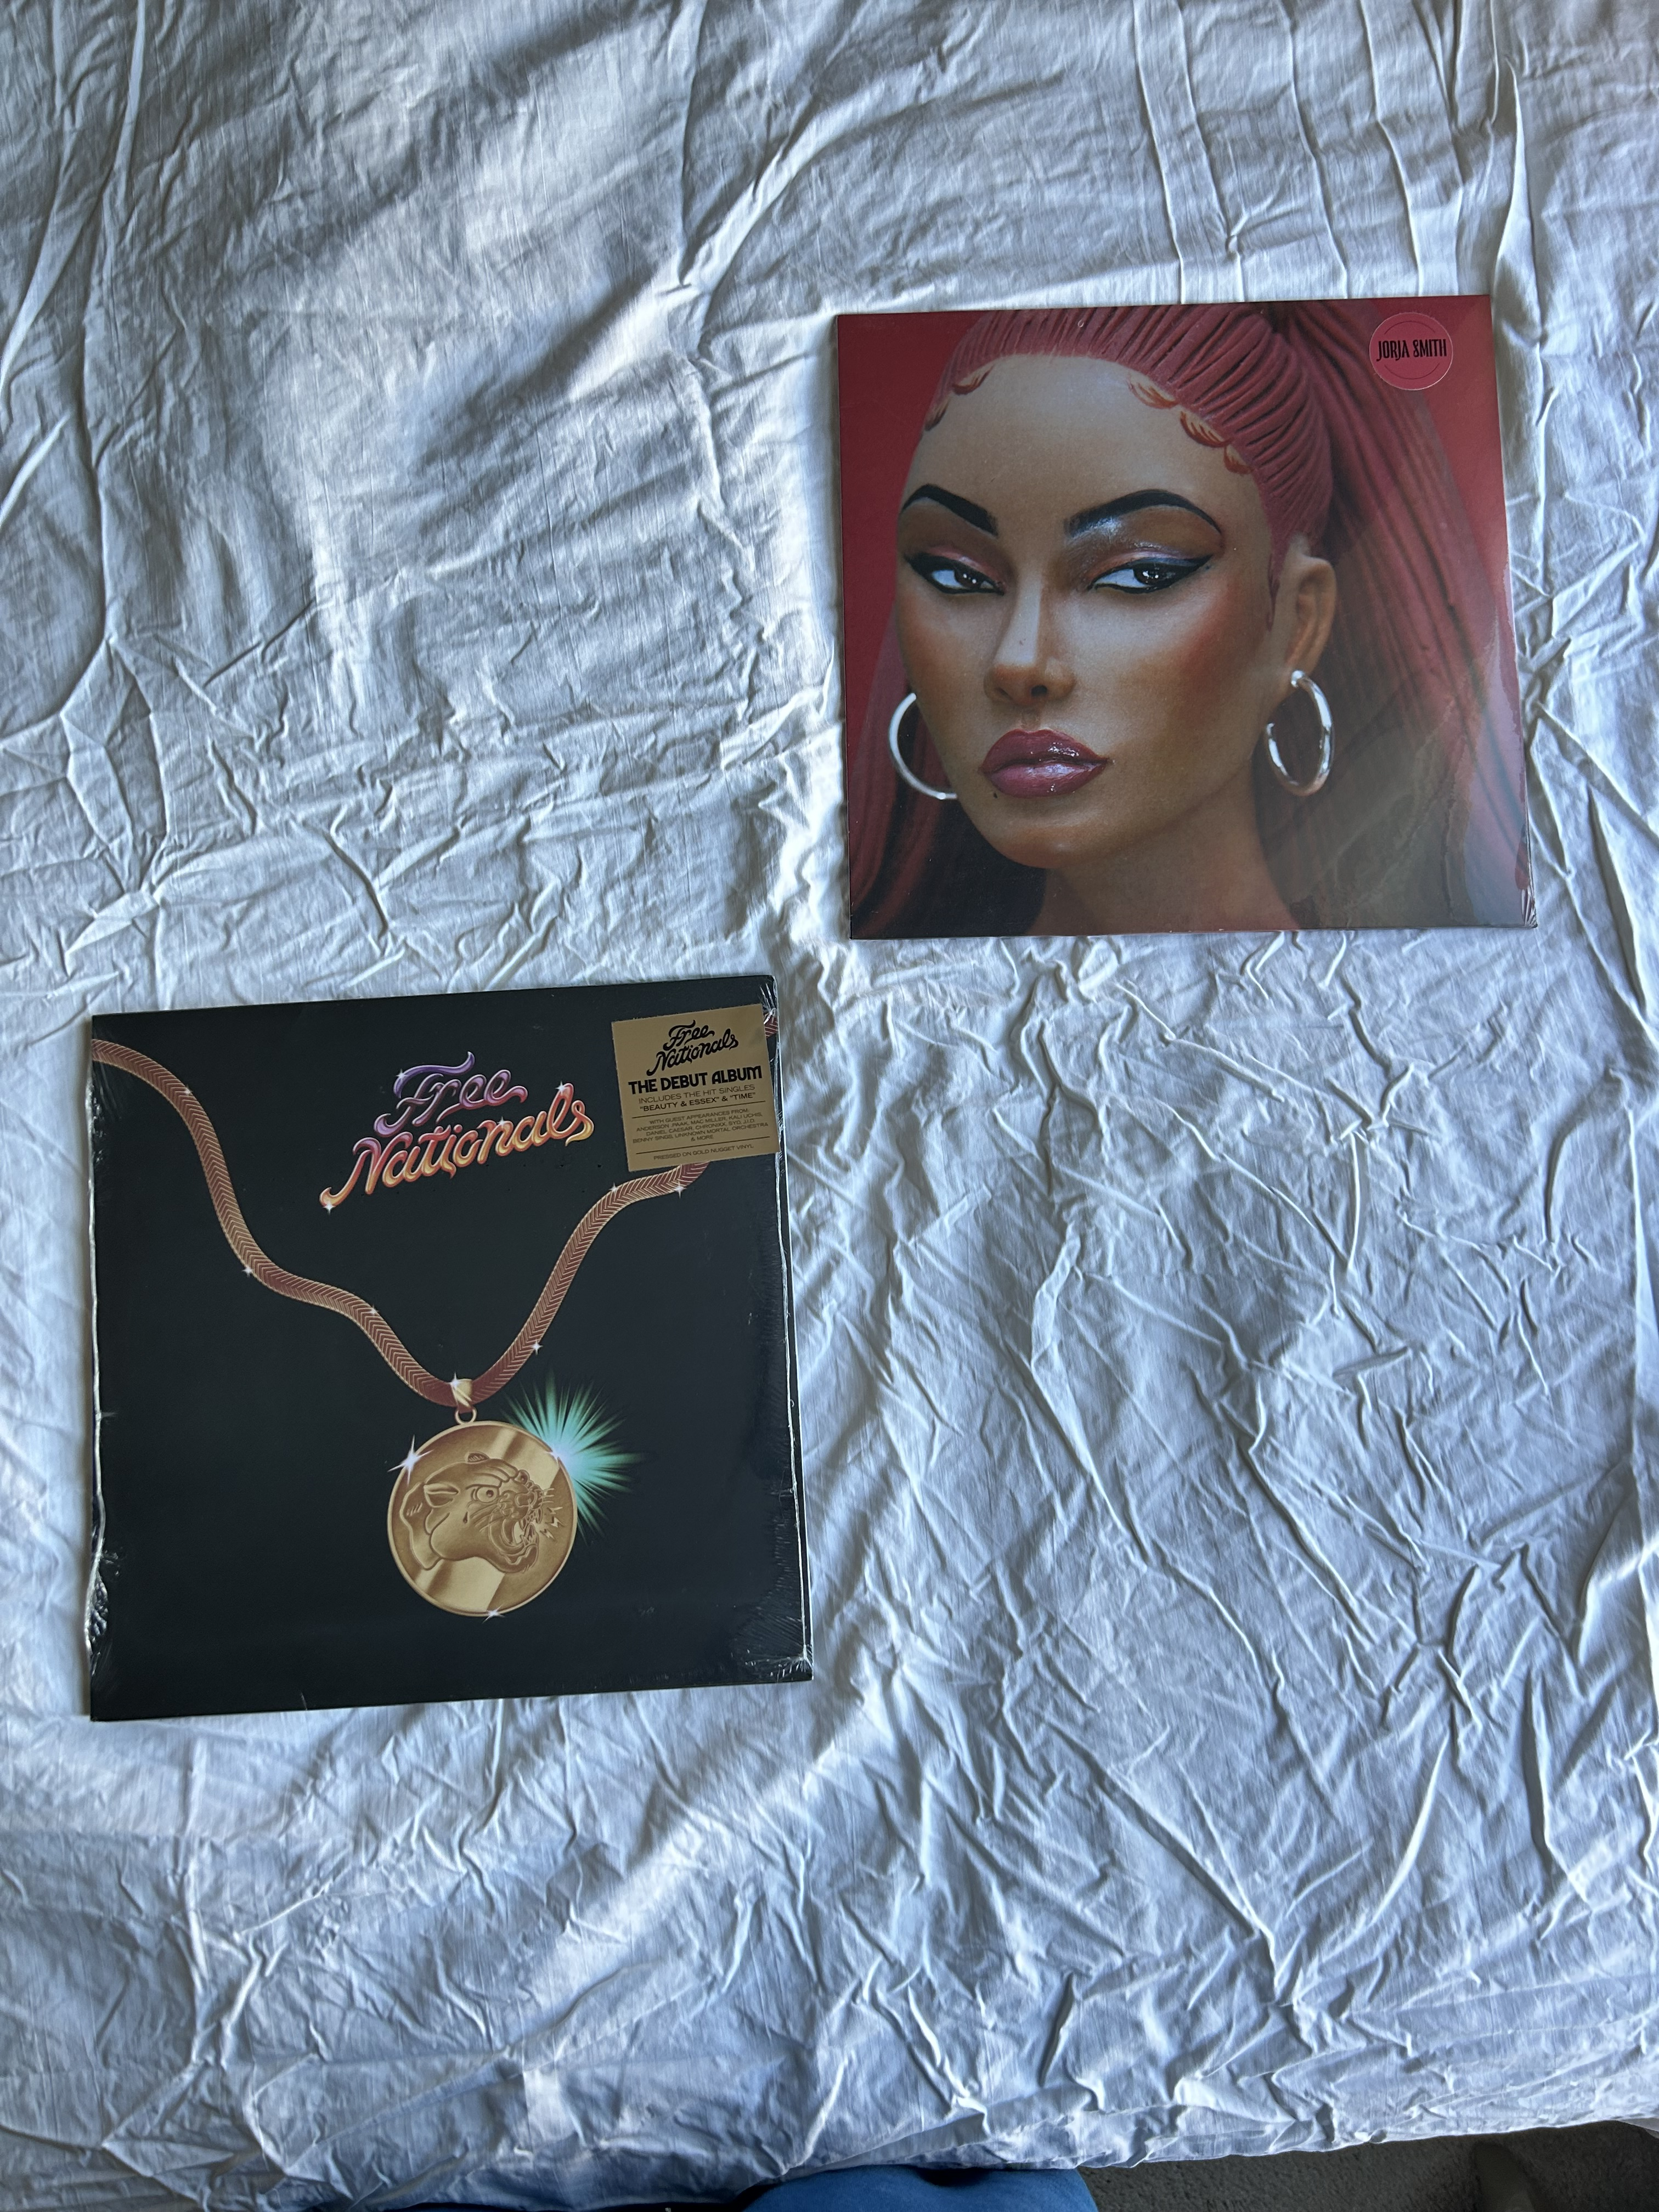free nationals_free nationals: (45, 1012, 775, 1723)
jorja smith_be right back: (835, 314, 1528, 941)
